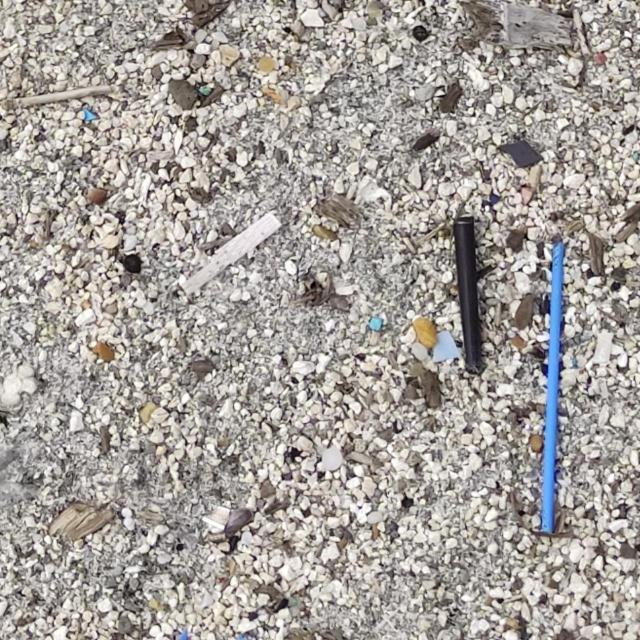litter: (538, 236, 570, 541)
